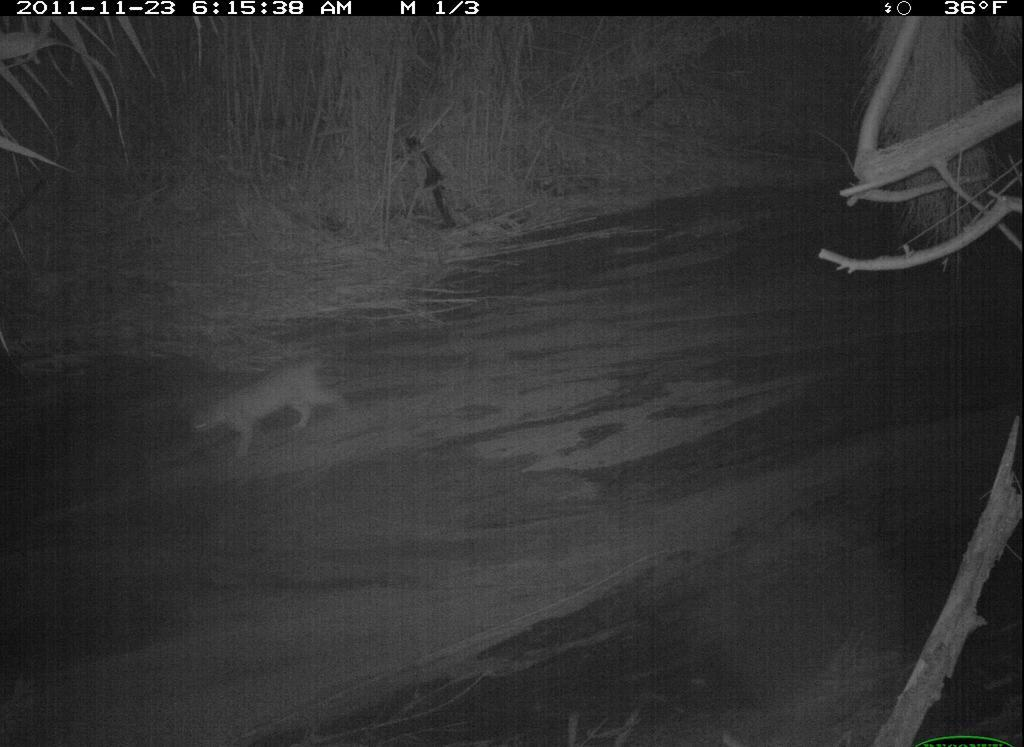bobcat: (181, 345, 365, 461)
